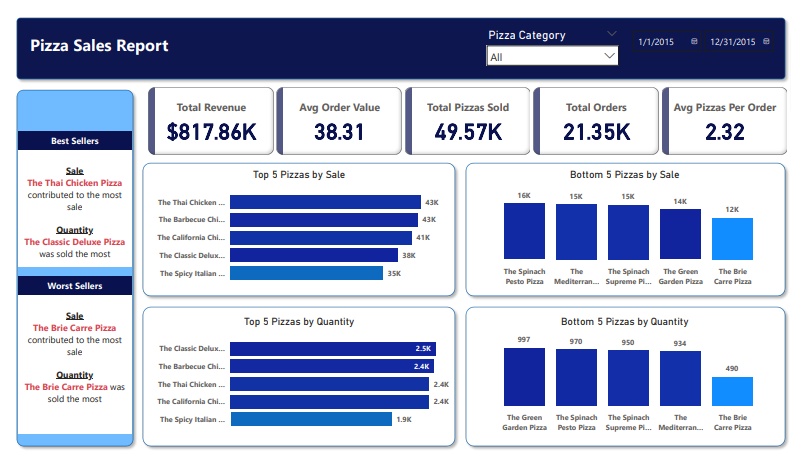

What the dashboard file says about the page in this screenshot:
{"tool":"powerbi","page":{"name":"Best/Worst Sellers","canvas":[1280,720],"ordinal":1},"visuals":[{"type":"cardVisual","fields":{"Data":["pizza_sales.Total Revenue","pizza_sales.Avg Order Value","pizza_sales.Total Pizzas Sold","pizza_sales.Total Orders","pizza_sales.Avg Pizzas Per Order"]},"box":[219.7,118.2,1060.6,119.7],"z":0},{"type":"shape","box":[207.6,237.9,530.3,236.4],"z":1000},{"type":"shape","box":[0,118.2,207.6,601.5],"z":2000},{"type":"textbox","box":[10.6,195.5,186.4,30.3],"z":3000},{"type":"textbox","box":[10.6,225.8,186.4,190.9],"z":4000},{"type":"textbox","box":[10.6,433.3,186.4,30.3],"z":5000},{"type":"textbox","box":[10.6,463.6,186.4,227.3],"z":6000},{"type":"shape","box":[0,0,1280.3,118.2],"z":7000},{"type":"textbox","box":[10.6,28.8,266.7,59.1],"z":8000},{"type":"slicer","fields":{"Values":["pizza_sales.pizza_category"]},"box":[771.2,19.7,236.4,78.8],"z":9000},{"type":"slicer","fields":{"Values":["pizza_sales.order_date"]},"box":[1007.6,19.7,259.1,78.8],"z":10000},{"type":"shape","box":[737.9,237.9,542.4,236.4],"z":11000},{"type":"shape","box":[207.6,474.2,530.3,245.5],"z":12000},{"type":"shape","box":[737.9,474.2,542.4,245.5],"z":13000},{"type":"barChart","title":"Top 5 Pizzas by Sale","fields":{"Category":["pizza_sales.pizza_name"],"Y":["pizza_sales.Total Revenue"]},"box":[221.9,255.7,502.5,199.8],"z":13001},{"type":"columnChart","title":"Bottom 5 Pizzas by Sale","fields":{"Category":["pizza_sales.pizza_name"],"Y":["pizza_sales.Total Revenue"]},"box":[756.7,255.7,502.5,199.8],"z":13002},{"type":"barChart","title":"Top 5 Pizzas by Quantity","fields":{"Category":["pizza_sales.pizza_name"],"Y":["pizza_sales.Total Pizzas Sold"]},"box":[221.9,496.7,502.5,199.8],"z":13003},{"type":"columnChart","title":"Bottom 5 Pizzas by Quantity","fields":{"Category":["pizza_sales.pizza_name"],"Y":["pizza_sales.Total Pizzas Sold"]},"box":[756.7,496.7,502.5,199.8],"z":13004}]}

Visuals, with their boxes in screenshot pixels (x1, y1, x2, y2), scaled from the page's 1280x720 canvas onto the 801x463 screenshot:
cardVisual - pizza_sales.Total Revenue x pizza_sales.Avg Order Value: 137 76 800 153
shape: 130 153 462 305
shape: 0 76 130 462
textbox: 7 126 123 145
textbox: 7 145 123 268
textbox: 7 279 123 298
textbox: 7 298 123 444
shape: 0 0 800 76
textbox: 7 19 174 57
slicer - pizza_sales.pizza_category: 483 13 631 63
slicer - pizza_sales.order_date: 631 13 793 63
shape: 462 153 800 305
shape: 130 305 462 462
shape: 462 305 800 462
"Top 5 Pizzas by Sale" barChart: 139 164 453 293
"Bottom 5 Pizzas by Sale" columnChart: 474 164 788 293
"Top 5 Pizzas by Quantity" barChart: 139 319 453 448
"Bottom 5 Pizzas by Quantity" columnChart: 474 319 788 448
